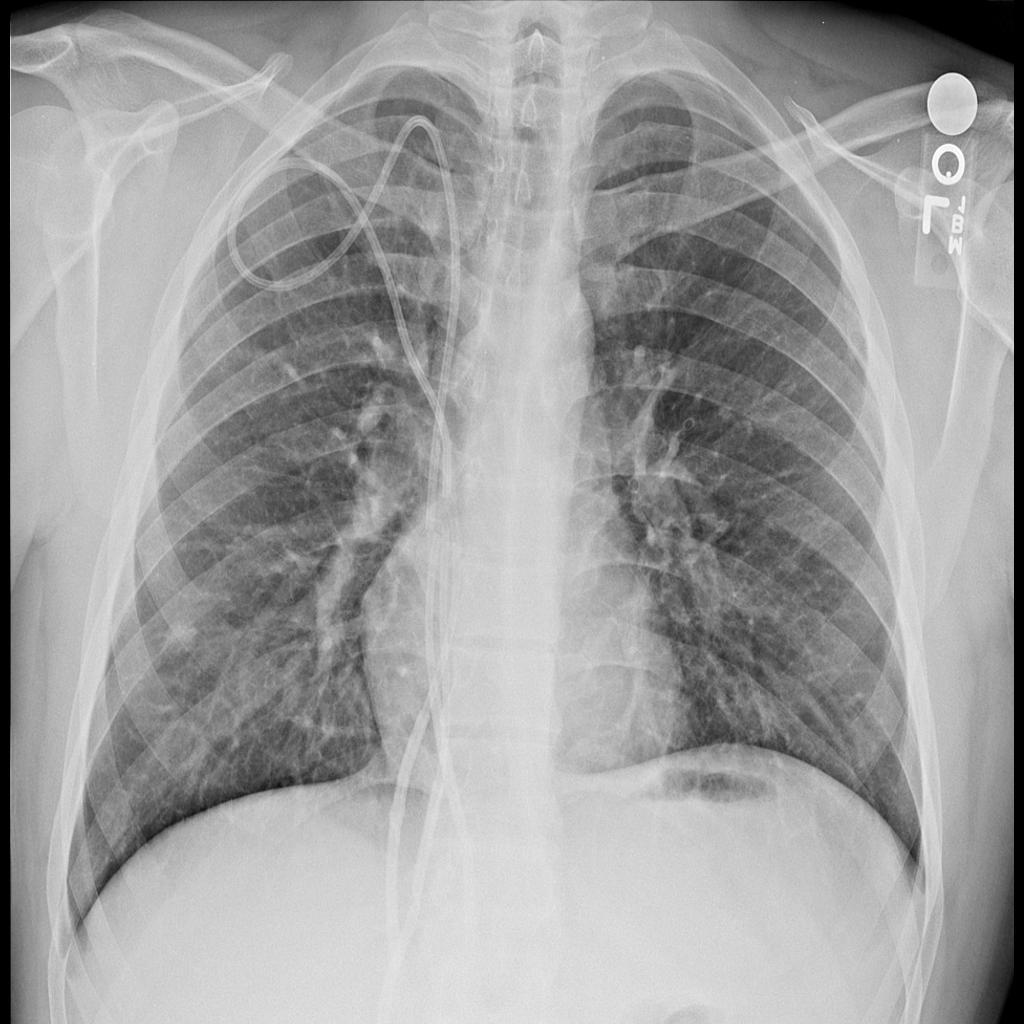Nodule: (162, 619, 209, 662)
